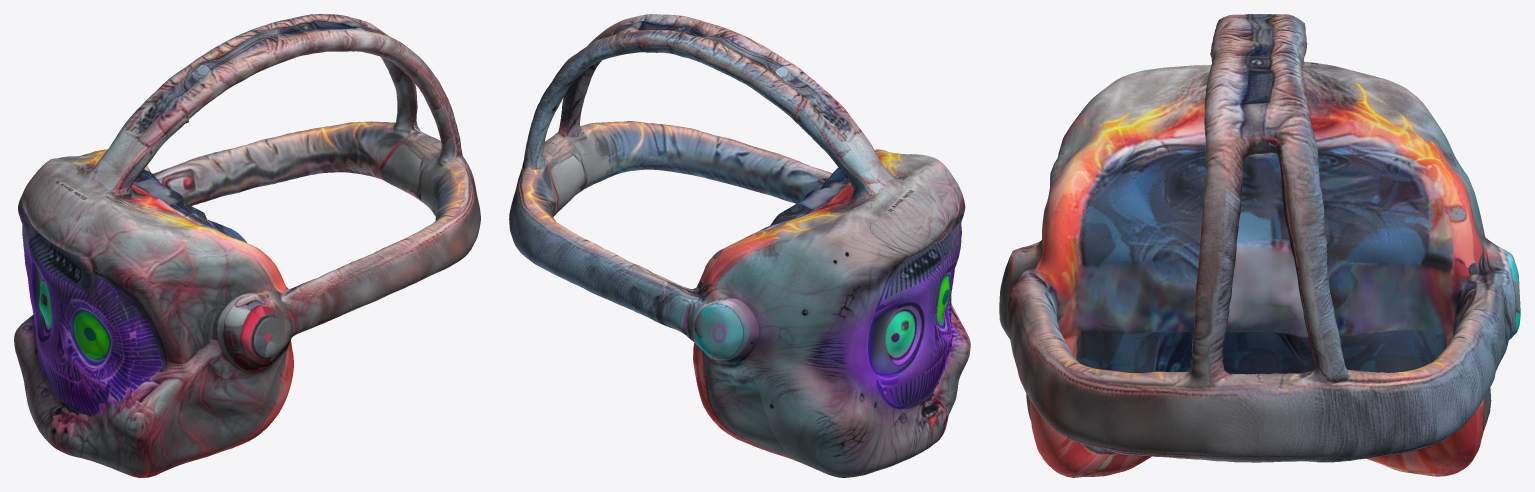
The picture shows the model from 3 angles, left to right: view 1: azimuth 30°, elevation 25°; view 2: azimuth 150°, elevation 25°; view 3: azimuth 270°, elevation 25°; orthographic projection. The views are drawn at different scales.
Parts seen in each view (by area): view 1: Mesh_0; view 2: Mesh_0; view 3: Mesh_0.
Boxes of the visible parts, left/top/right/bottom form: Mesh_0: left=14, top=14, right=480, bottom=477; Mesh_0: left=509, top=14, right=970, bottom=477; Mesh_0: left=999, top=14, right=1520, bottom=477.
Size of the model in its own units: 120 by 103 by 88.73.
Materials: 1 (1 with a texture image).
